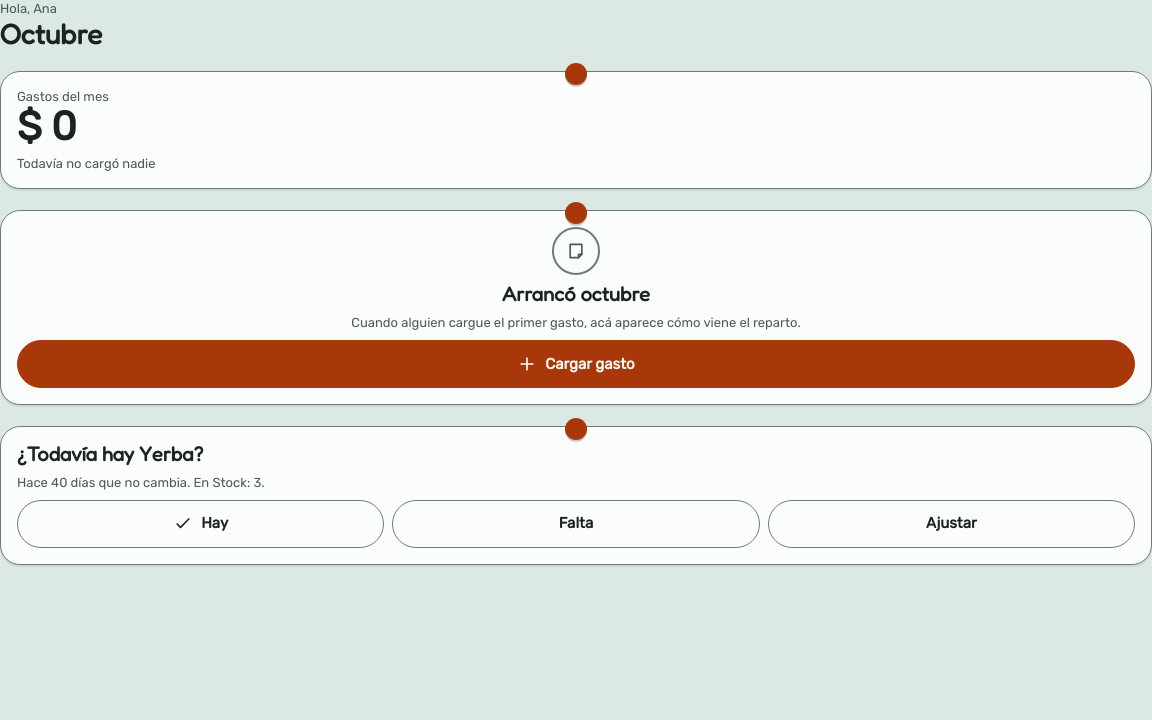
Test case: Ajustar pide la cantidad según la unidad y la deja como dijo
Expected: the heading "¿Todavía hay Yerba?" is shown, [17,442,203,466]
Click the button "Ajustar": coordinates (951, 524) [768,500,1135,548]
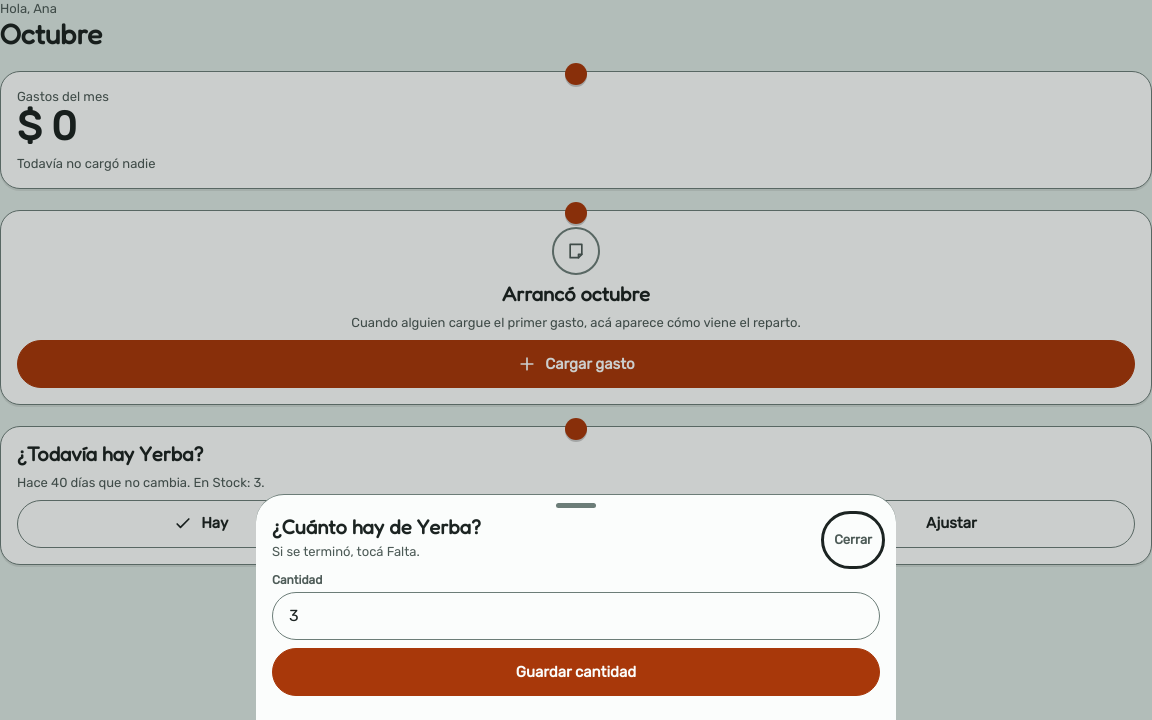
Result: the heading "¿Cuánto hay de Yerba?" is shown at [272,516,481,539]
Replace the text in the field labelled "Cantidad" with "1,5": coordinates (576, 616) [272,592,880,640]
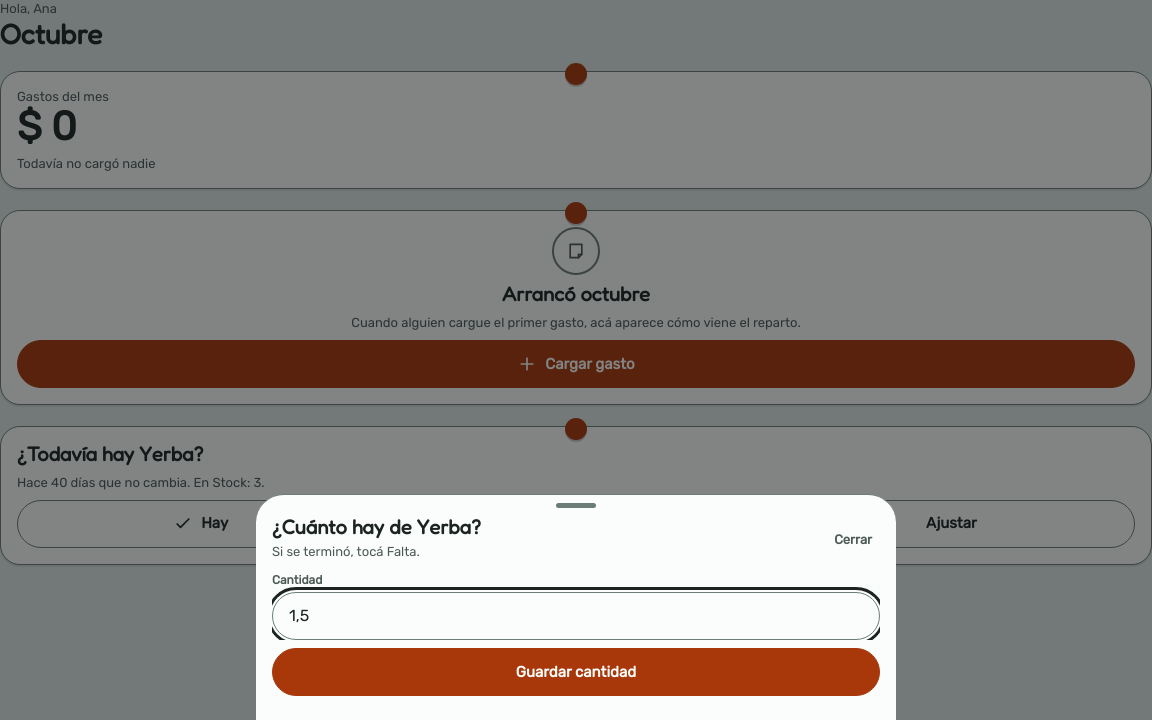
Click the button "Guardar cantidad": coordinates (576, 672) [272,648,880,696]
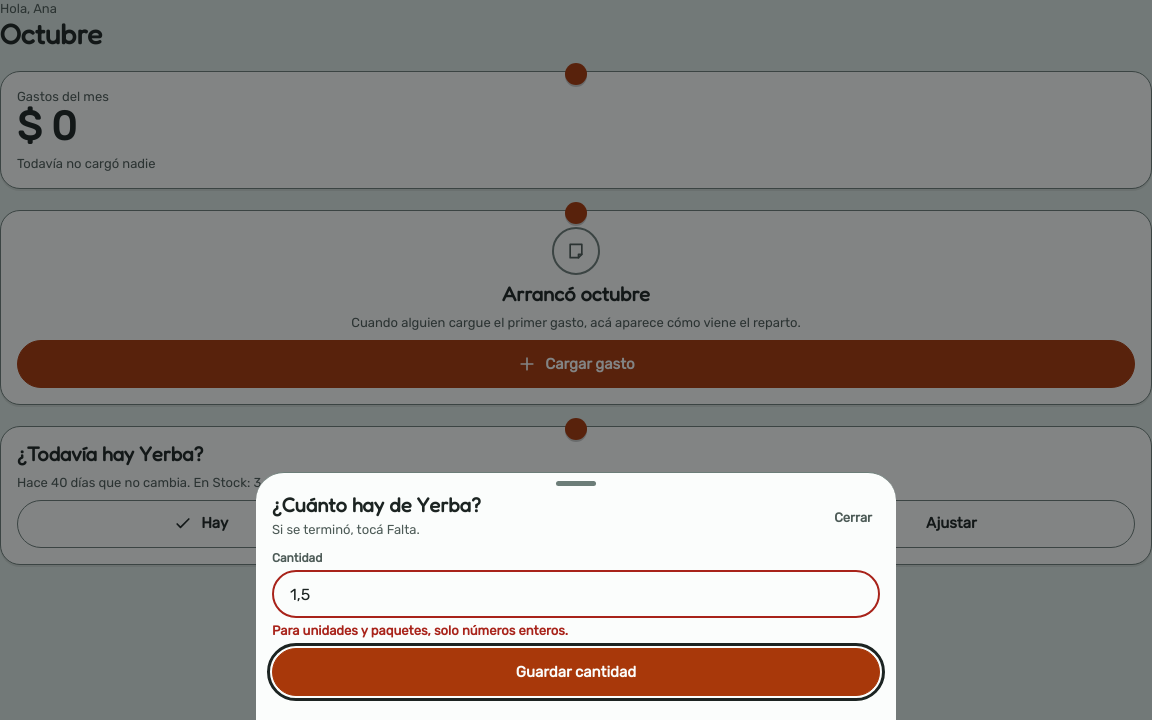
Result: the text "Para unidades y paquetes, solo números enteros." is shown at [272,624,568,638]
Clear the field labelled "Cantidad": coordinates (576, 594) [272,570,880,618]
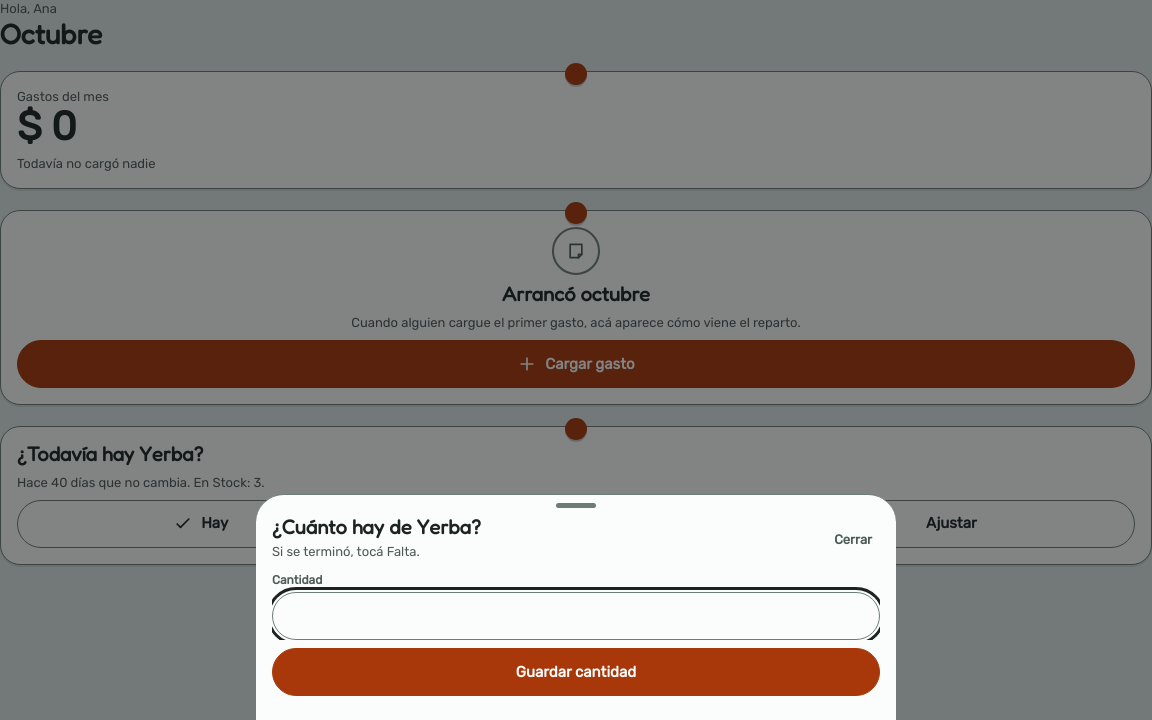
In the field labelled "Cantidad": coordinates (576, 616) [272,592,880,640], type "1"
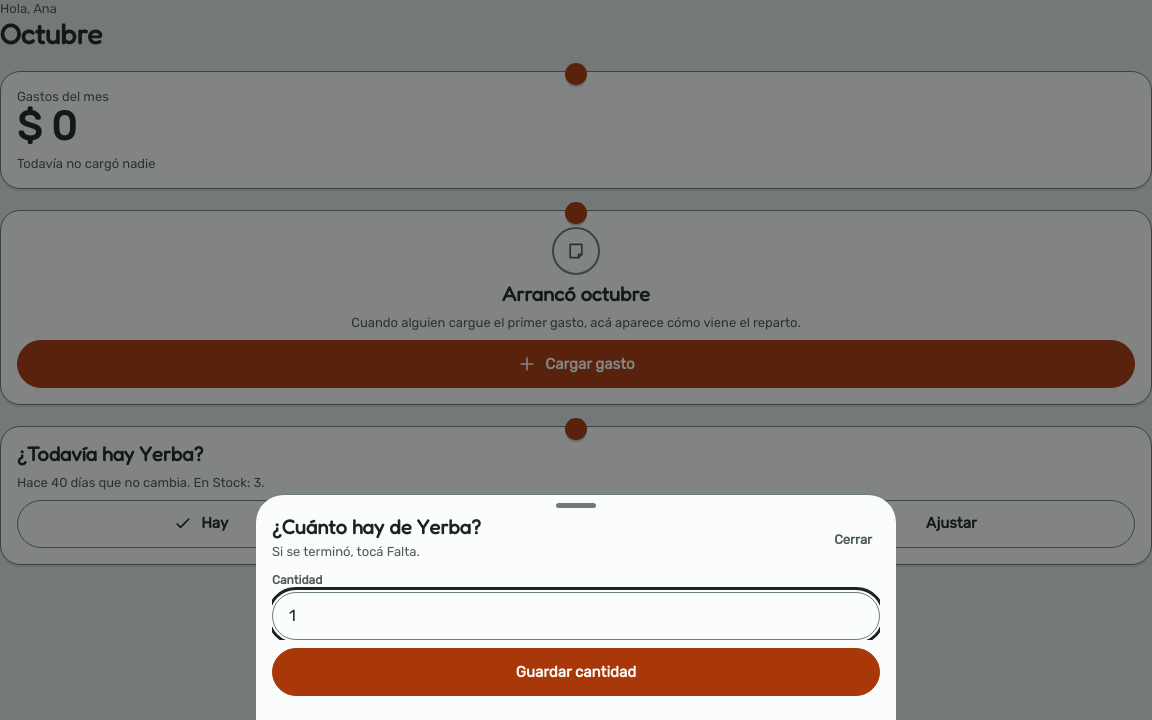
Click the button "Guardar cantidad": coordinates (576, 672) [272,648,880,696]
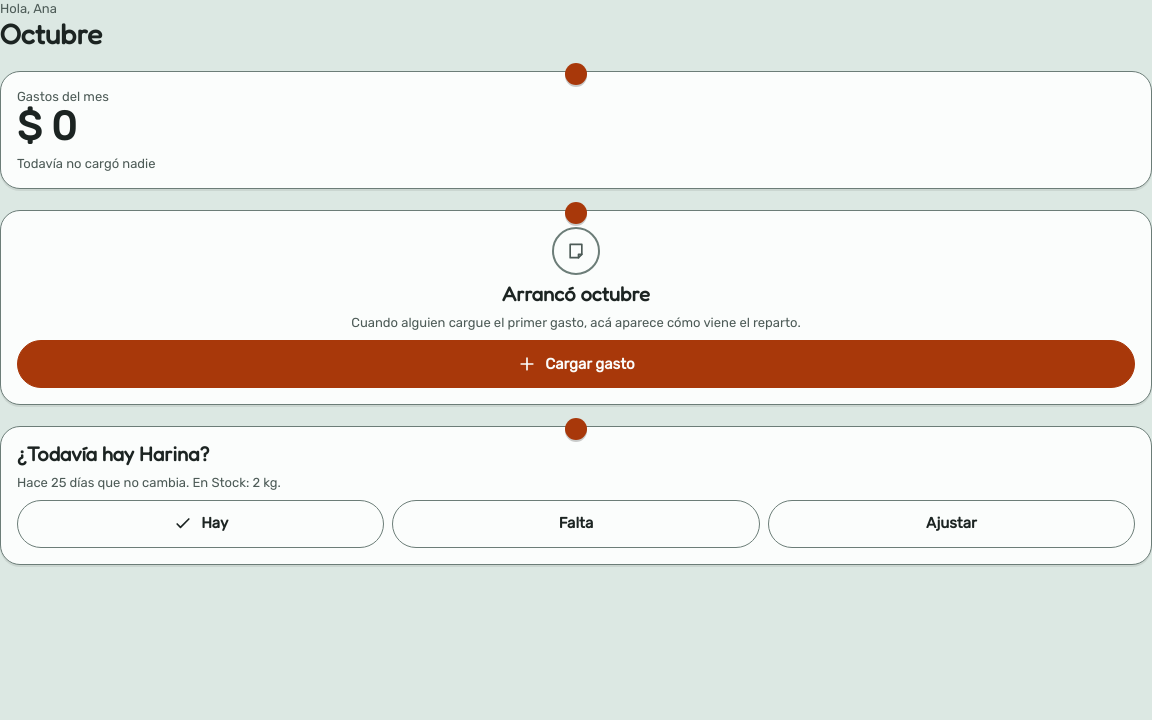
Result: the heading "¿Todavía hay Harina?" is shown at [17,442,209,466]
